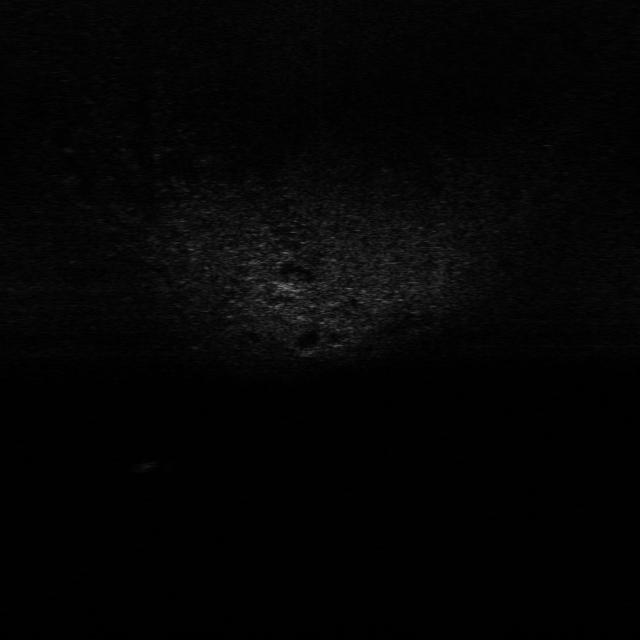cylinder: (132, 455, 159, 473)
